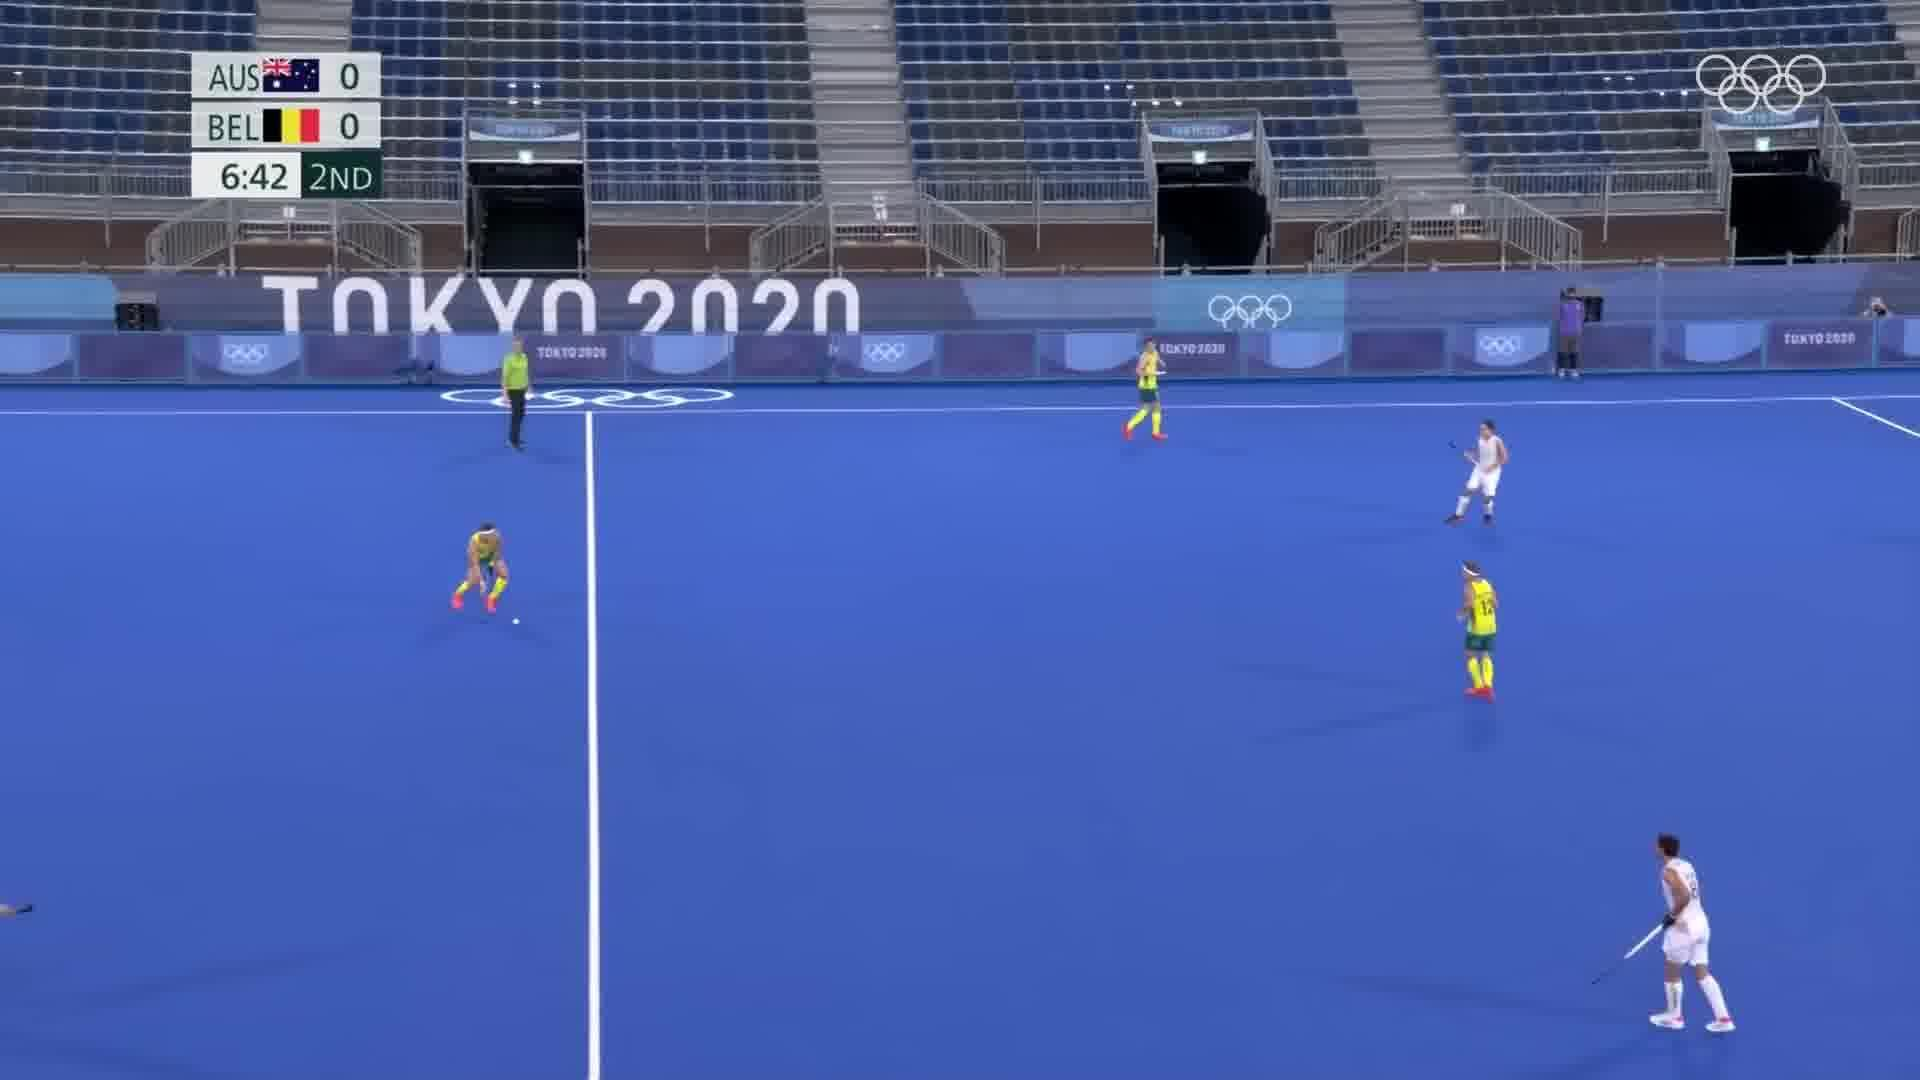ball: (508, 615, 524, 630)
